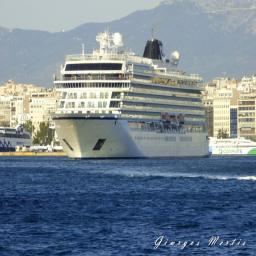cruises: (50, 25, 215, 163)
